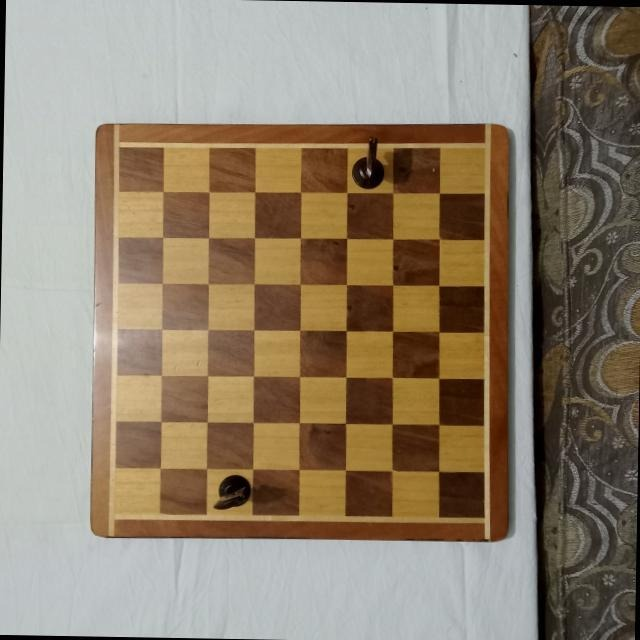black-knight: (351, 133, 386, 190), (211, 472, 252, 511)
